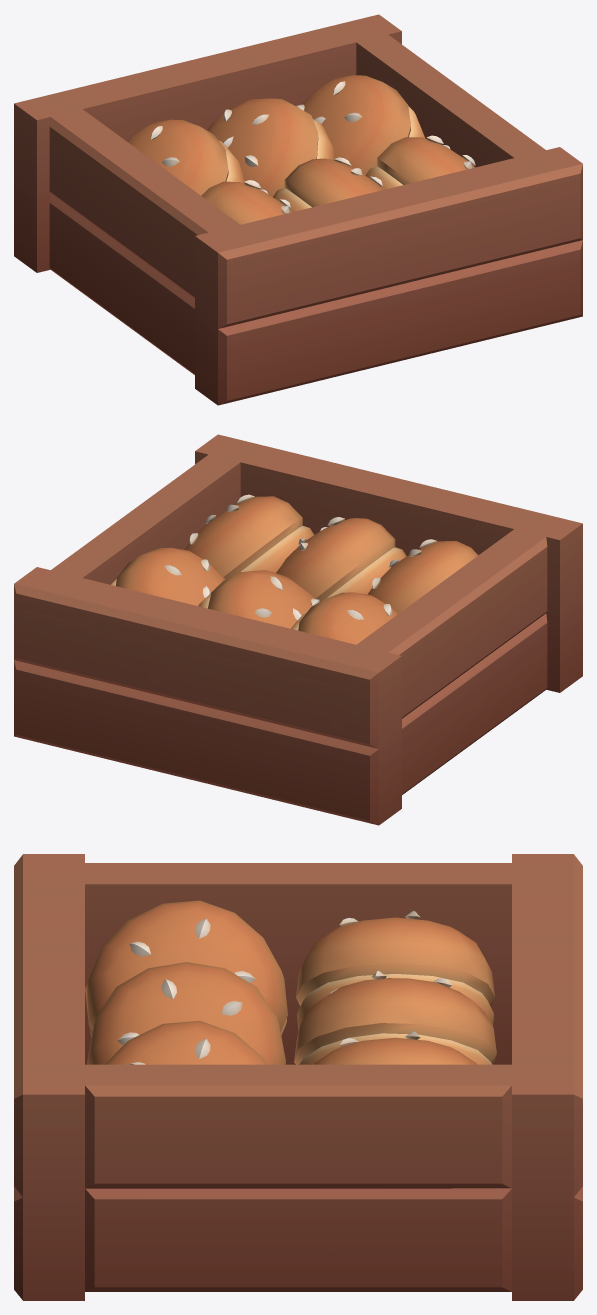
Rendered from crate-buns.glb.
3 views of the same model, one above another, from view 1: azimuth 30°, elevation 25°; view 2: azimuth 150°, elevation 25°; view 3: azimuth 270°, elevation 25° (orthographic). The views are drawn at different scales.
Visible parts, largest first — view 1: crate_buns; view 2: crate_buns; view 3: crate_buns.
Boxes of the visible parts, x1,y1,x2,y2 form: crate_buns: [14, 14, 582, 405]; crate_buns: [14, 434, 582, 825]; crate_buns: [14, 854, 582, 1300].
Size of the model in its own units: 2 by 0.8023 by 2.
Materials: 1 (1 with a texture image).
